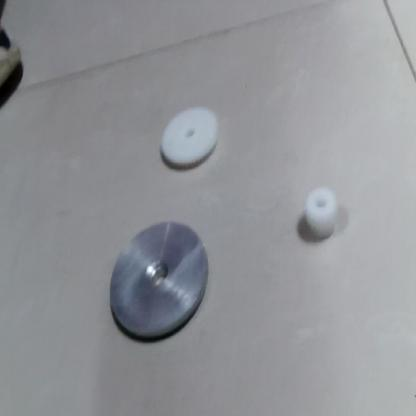FOD: (104, 216, 214, 343), (153, 110, 222, 174), (292, 179, 352, 240)
